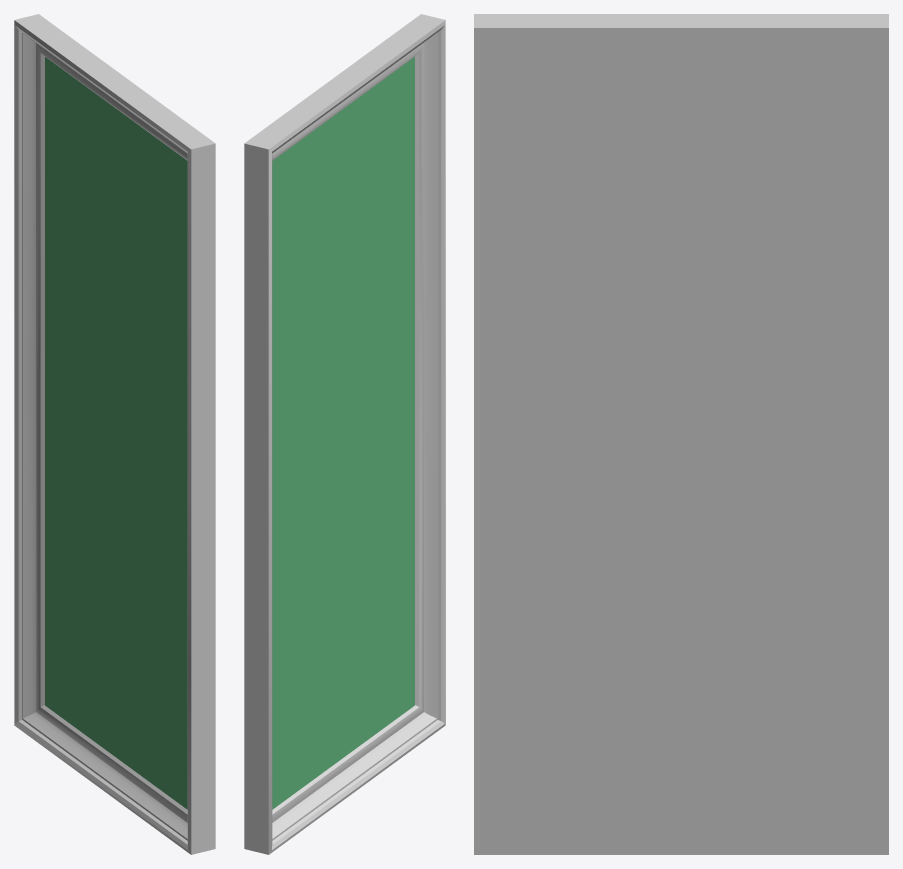
The model's file is HemnesMirror.FBX.
3 views of the same model, side by side, from view 1: azimuth 30°, elevation 25°; view 2: azimuth 150°, elevation 25°; view 3: azimuth 270°, elevation 25° (orthographic). The views are drawn at different scales.
Parts seen in each view (by area): view 1: HemnesMirror; view 2: HemnesMirror; view 3: HemnesMirror.
Part boxes in pixels (bbox=[...]): HemnesMirror: bbox=[14, 14, 215, 854]; HemnesMirror: bbox=[244, 14, 445, 854]; HemnesMirror: bbox=[474, 14, 888, 854].
Bounding box in the file's own units: 6.3 × 75 × 165.
